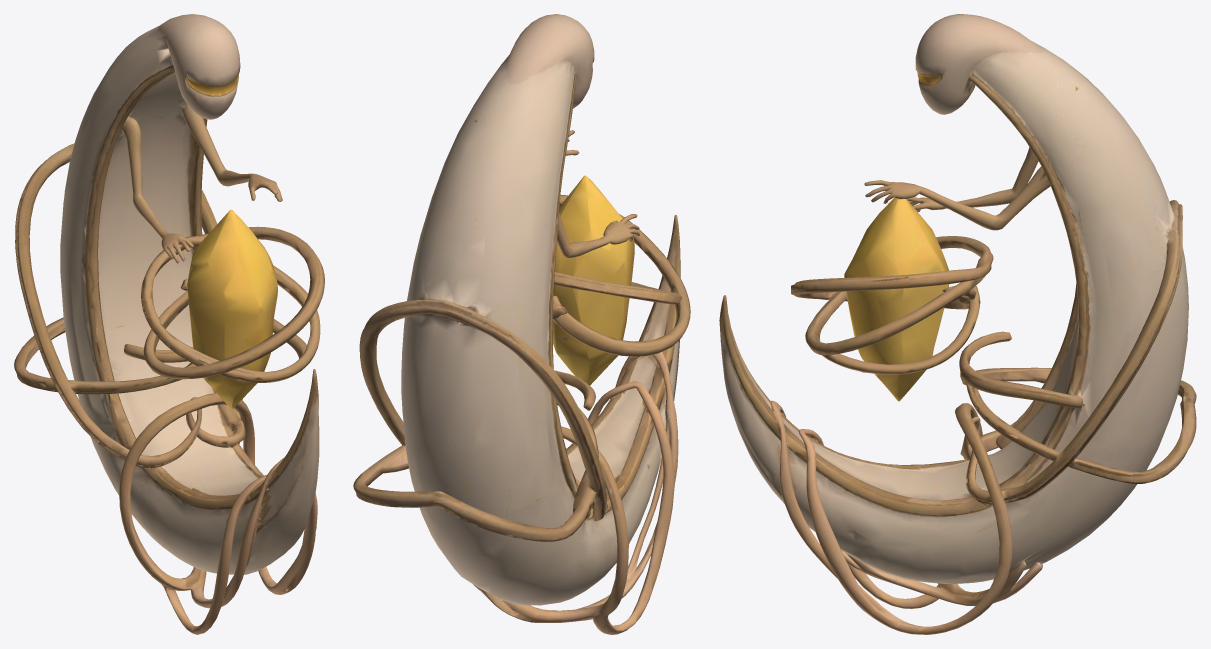
3 views of the same model, side by side, from view 1: azimuth 30°, elevation 25°; view 2: azimuth 150°, elevation 25°; view 3: azimuth 270°, elevation 25° (orthographic). The views are drawn at different scales.
Parts seen in each view (by area): view 1: Mesh_0; view 2: Mesh_0; view 3: Mesh_0.
Boxes of the visible parts, x1,y1,x2,y2 form: Mesh_0: (14, 14, 324, 634); Mesh_0: (353, 14, 690, 634); Mesh_0: (719, 14, 1196, 634).
Size of the model in its own units: 0.6926 by 1.9 by 1.35.
Materials: 1 (1 with a texture image).
